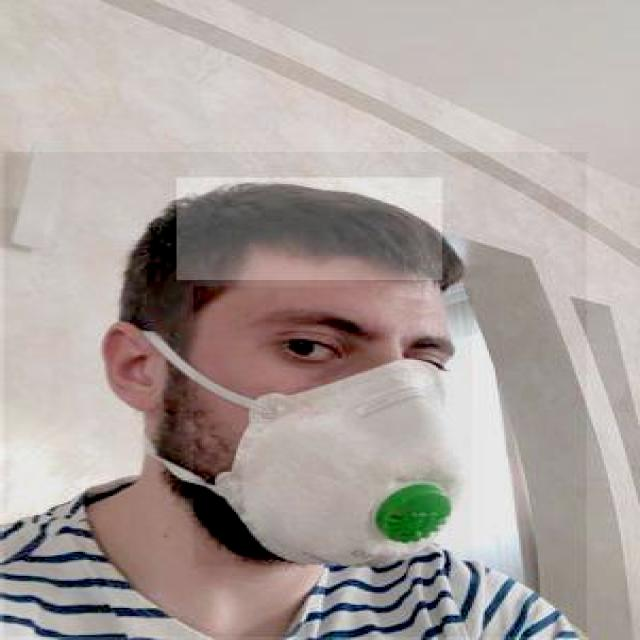face_mask: (191, 286, 472, 568)
head_nohelmet: (176, 178, 442, 280)
person: (2, 152, 587, 638)
